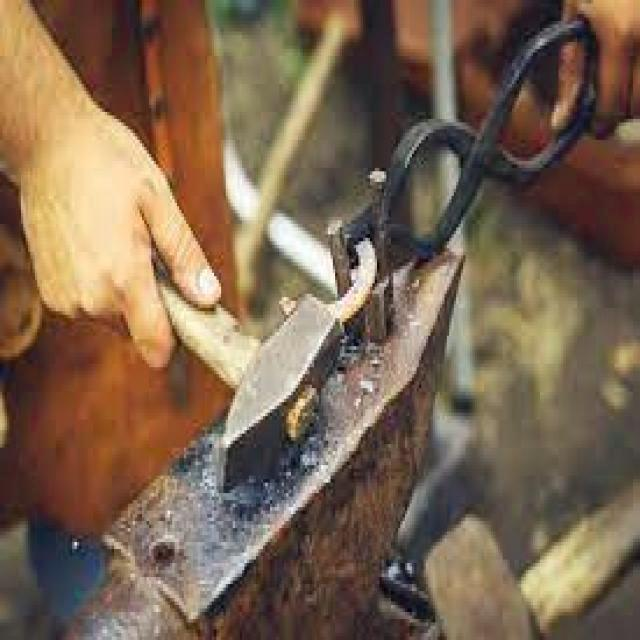hammer: (140, 252, 352, 504)
